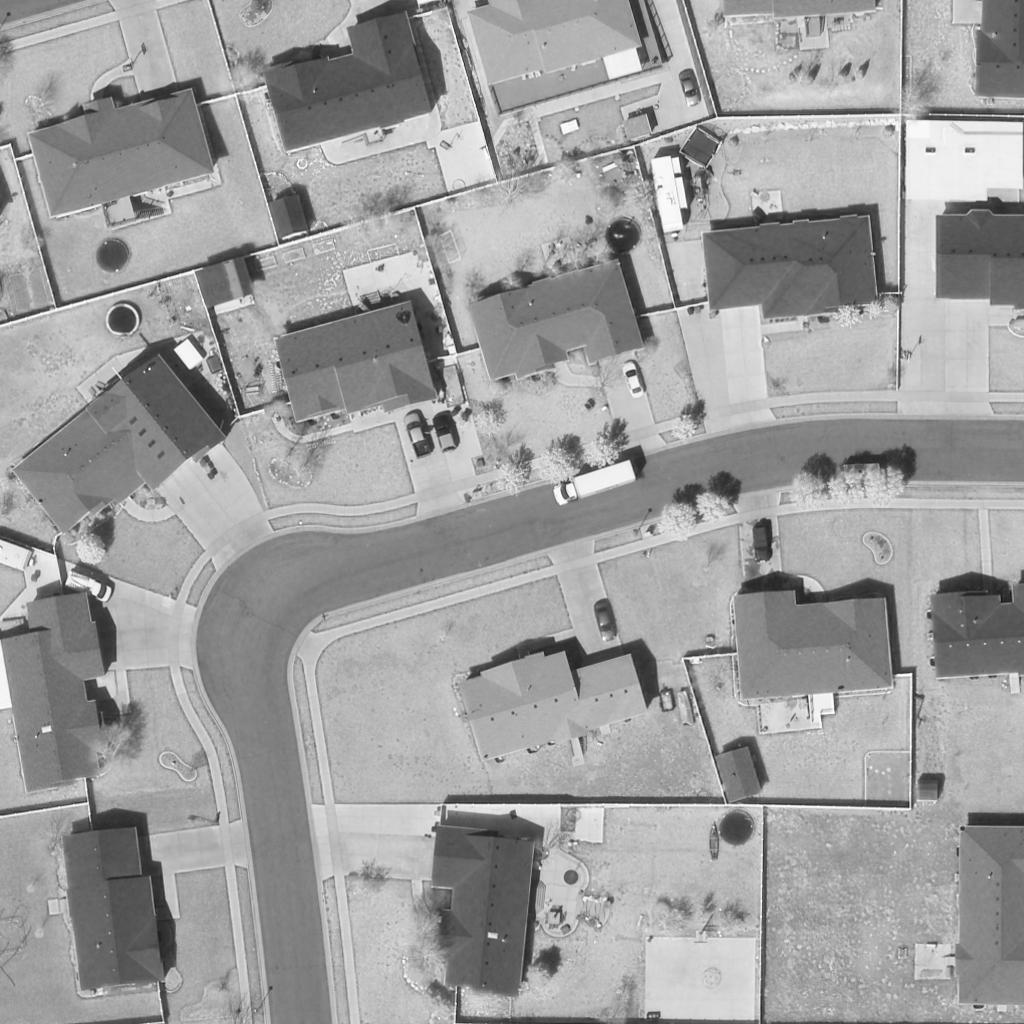vehicle: (551, 460, 637, 508), (647, 158, 685, 234), (402, 415, 434, 457), (67, 575, 113, 603), (429, 413, 459, 453), (618, 360, 646, 396), (593, 602, 617, 642), (676, 72, 704, 104), (753, 526, 773, 564), (842, 464, 884, 480), (709, 822, 719, 862)
